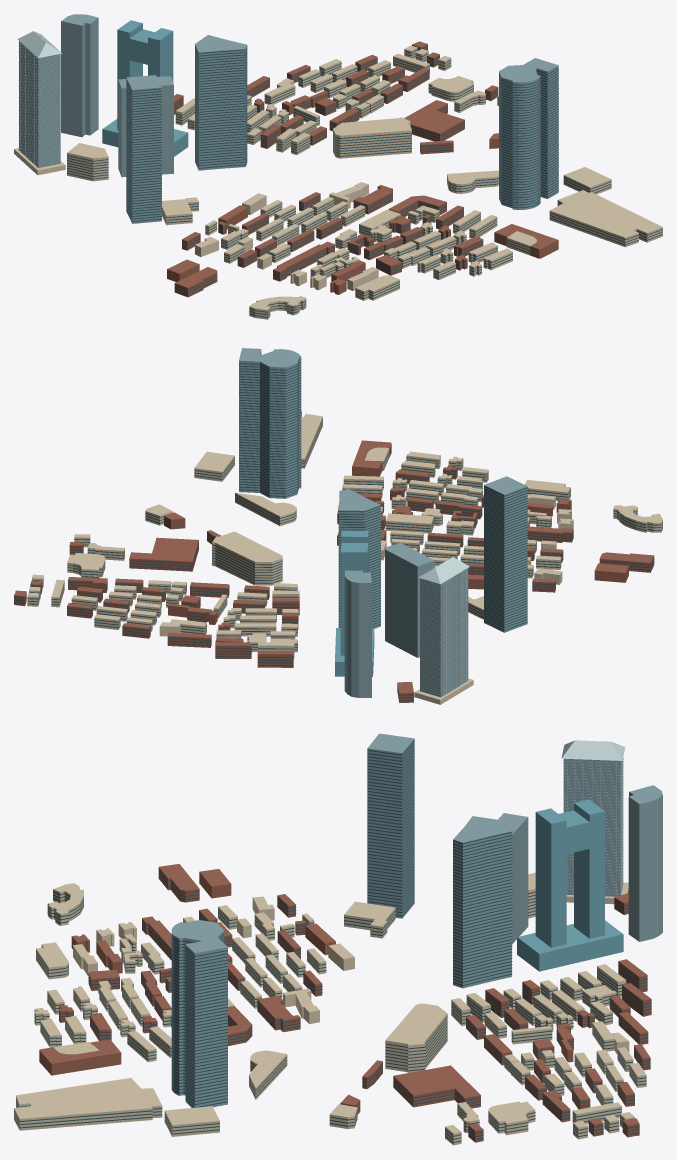
3 renders of one model, top to bottom at view 1: azimuth 30°, elevation 25°; view 2: azimuth 150°, elevation 25°; view 3: azimuth 270°, elevation 25°, orthographic. The views are drawn at different scales.
Visible parts, largest first — view 1: osm-way-525709287, china-insurance.001, osm-way-113520430, osm-relation-5496035, osm-relation-12876241, osm-way-899205736, stock-exchange.001, osm-way-1427539586, osm-relation-12876241.002, osm-relation-12876241.001, osm-way-164972435, osm-way-1427522331 (+17 smaller); view 2: china-insurance.001, osm-way-113520430, osm-relation-12876241.001, osm-way-164972435, osm-relation-5496035, osm-relation-12876241.002, osm-way-525709287, osm-way-1427539586, stock-exchange.001, osm-way-1427522331, osm-relation-12876242, osm-way-899205734 (+14 smaller); view 3: stock-exchange.001, osm-way-525709287, osm-way-113520430, osm-relation-12876241.002, china-insurance.001, osm-way-899205736, osm-relation-5496035, osm-way-1427539586, osm-way-1427522331, osm-way-164972435, osm-relation-12876241, osm-way-964254648 (+19 smaller).
Part boxes in pixels (<box>): osm-way-525709287: <box>195,35,247,170</box>; china-insurance.001: <box>14,31,65,175</box>; osm-way-113520430: <box>126,75,161,223</box>; osm-relation-5496035: <box>61,14,98,137</box>; osm-relation-12876241: <box>512,75,540,209</box>; osm-way-899205736: <box>549,190,662,247</box>; stock-exchange.001: <box>102,20,188,156</box>; osm-way-1427539586: <box>333,117,411,158</box>; osm-relation-12876241.002: <box>523,58,558,198</box>; osm-relation-12876241.001: <box>499,65,537,208</box>; osm-way-164972435: <box>118,76,173,177</box>; osm-way-1427522331: <box>404,100,464,141</box>; china-insurance.001: <box>414,557,473,704</box>; osm-way-113520430: <box>484,476,527,632</box>; osm-relation-12876241.001: <box>260,351,298,498</box>; osm-way-164972435: <box>385,542,434,657</box>; osm-relation-5496035: <box>344,570,371,697</box>; osm-relation-12876241.002: <box>239,348,261,492</box>; osm-way-525709287: <box>338,489,380,628</box>; osm-way-1427539586: <box>212,531,282,585</box>; stock-exchange.001: <box>335,530,374,676</box>; osm-way-1427522331: <box>129,537,198,571</box>; osm-relation-12876242: <box>235,492,293,526</box>; osm-way-899205734: <box>194,451,234,481</box>; stock-exchange.001: <box>517,799,623,971</box>; osm-way-525709287: <box>453,816,512,988</box>; osm-way-113520430: <box>367,733,414,918</box>; osm-relation-12876241.002: <box>185,937,227,1107</box>; china-insurance.001: <box>561,740,628,904</box>; osm-way-899205736: <box>14,1078,162,1130</box>; osm-relation-5496035: <box>628,785,662,941</box>; osm-way-1427539586: <box>385,1003,447,1072</box>; osm-way-1427522331: <box>393,1065,480,1108</box>; osm-way-164972435: <box>498,813,528,944</box>; osm-relation-12876241: <box>171,922,183,1095</box>; osm-way-964254648: <box>39,1039,121,1075</box>.
Bounding box in the file's own units: 735 × 210 × 747.
